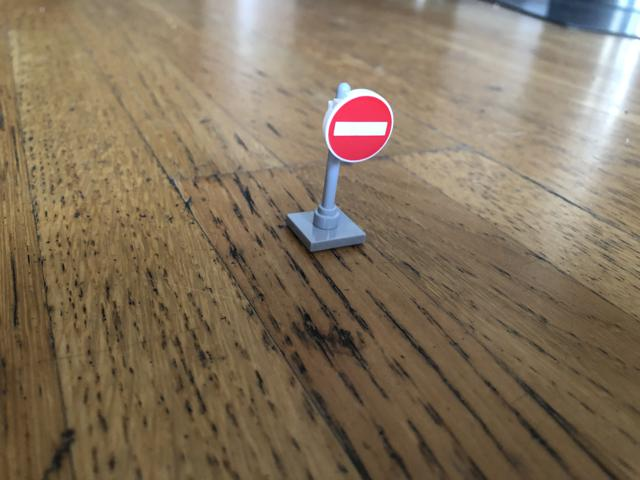verbot der einfahrt: (323, 91, 393, 166)
